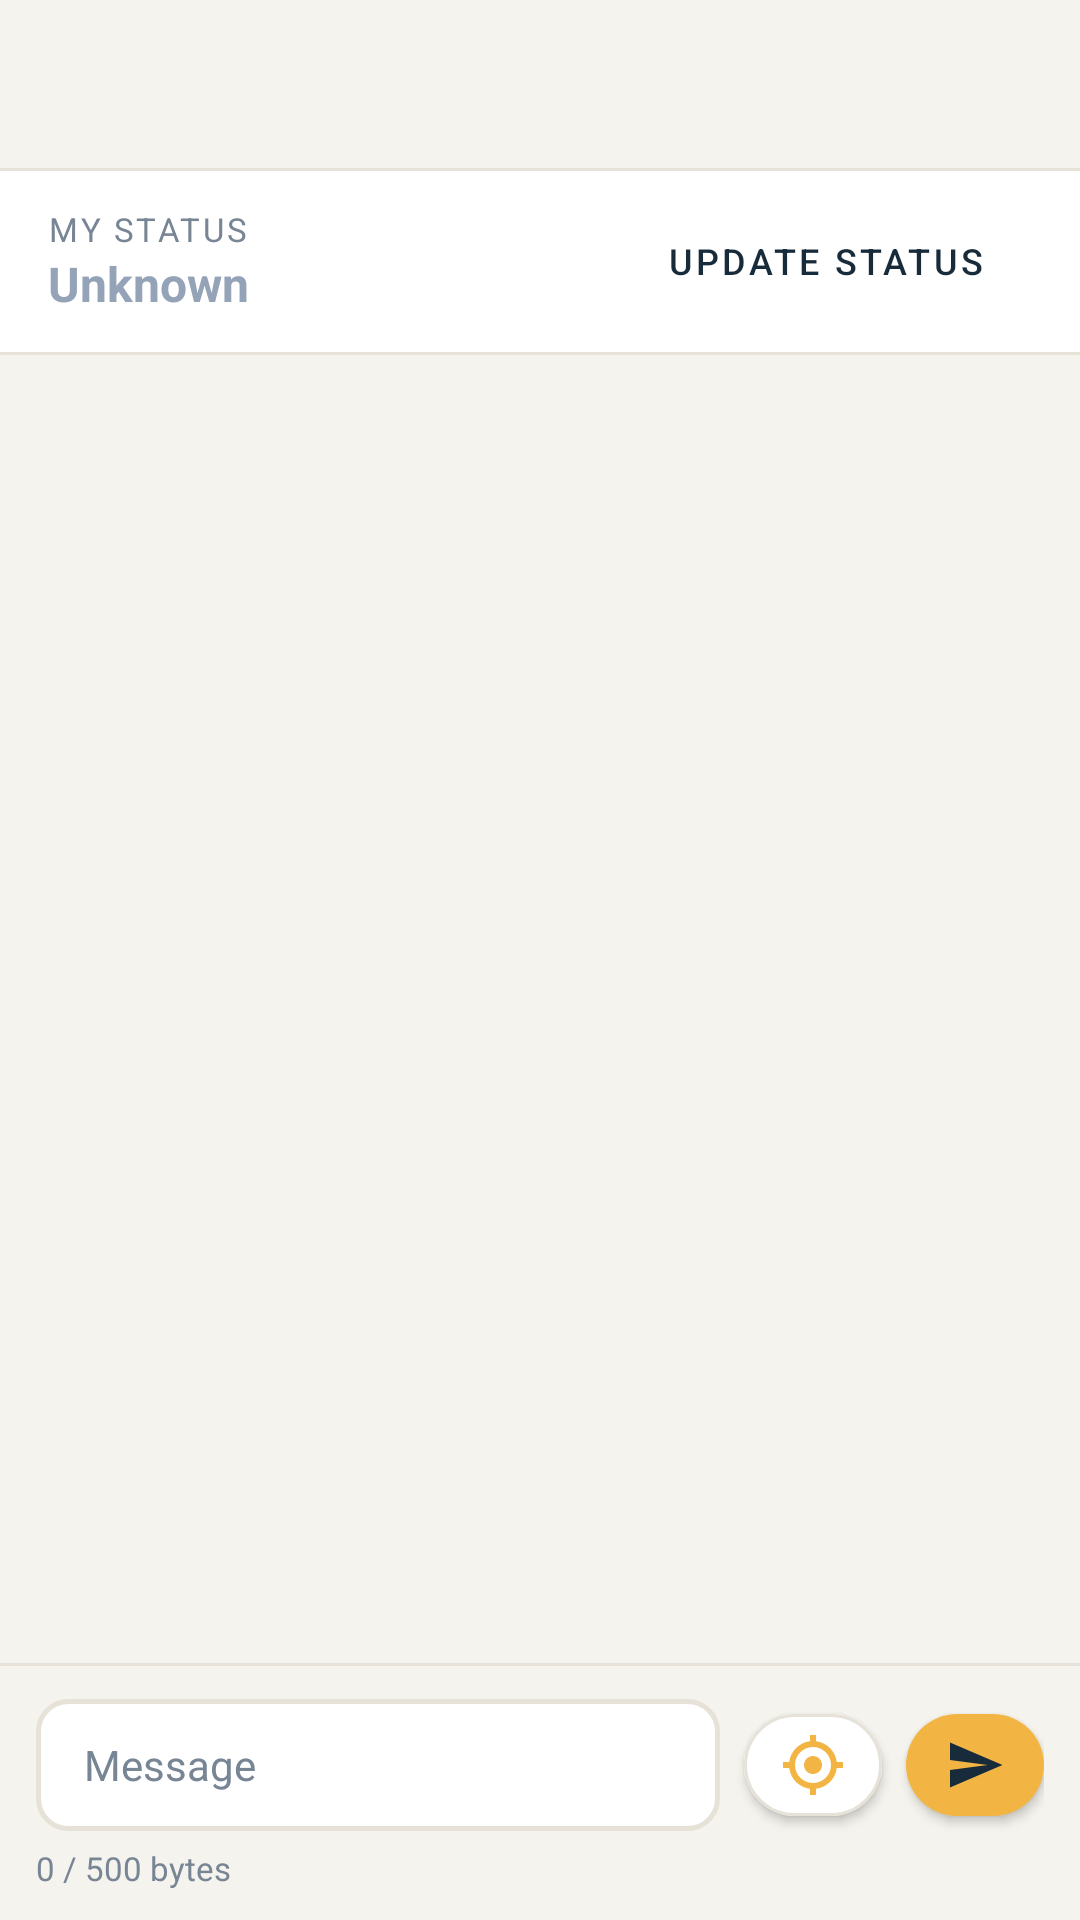

Icons on this 1080 x 1920 Android screen, each with the point to tap as (x=x, y=y):
Insert current coordinates: (x=813, y=1770)
send plane: (x=975, y=1767)
